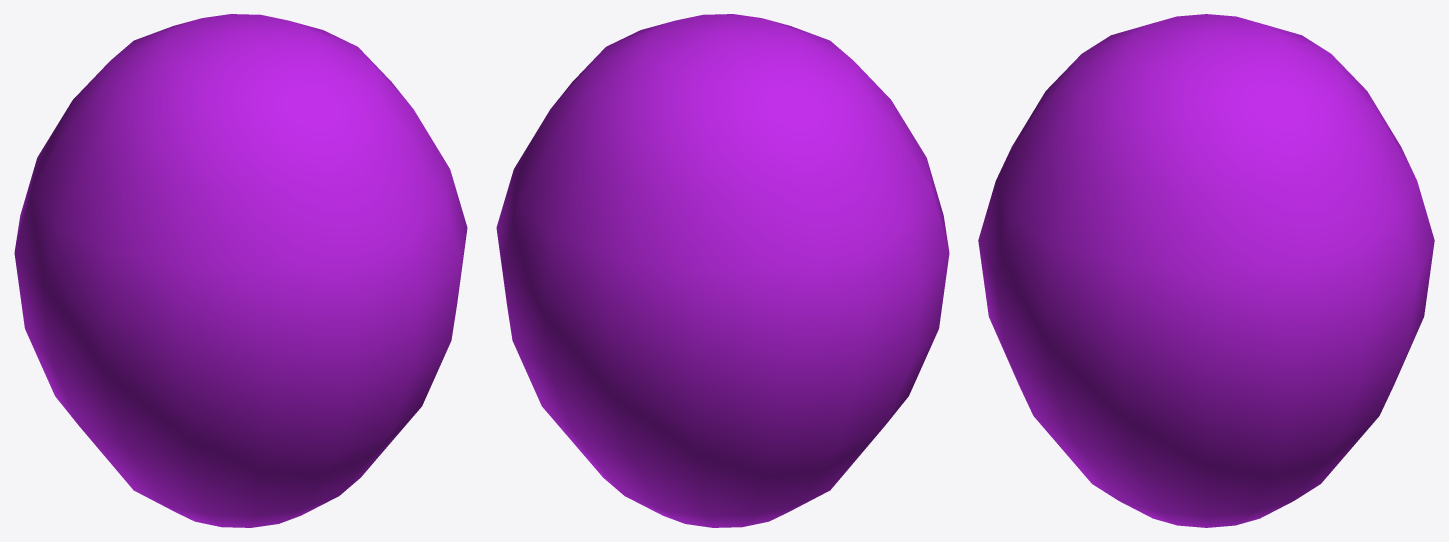
The model's file is Egg1.fbx.
3 views of the same model, side by side, from view 1: azimuth 30°, elevation 25°; view 2: azimuth 150°, elevation 25°; view 3: azimuth 270°, elevation 25° (orthographic).
Visible parts, largest first — view 1: Egg1; view 2: Egg1; view 3: Egg1.
Boxes of the visible parts, x1,y1,x2,y2 form: Egg1: [14, 14, 467, 527]; Egg1: [496, 14, 949, 527]; Egg1: [978, 14, 1434, 527].
Size of the model in its own units: 217 by 252 by 217.
1 material, 1 textured.
